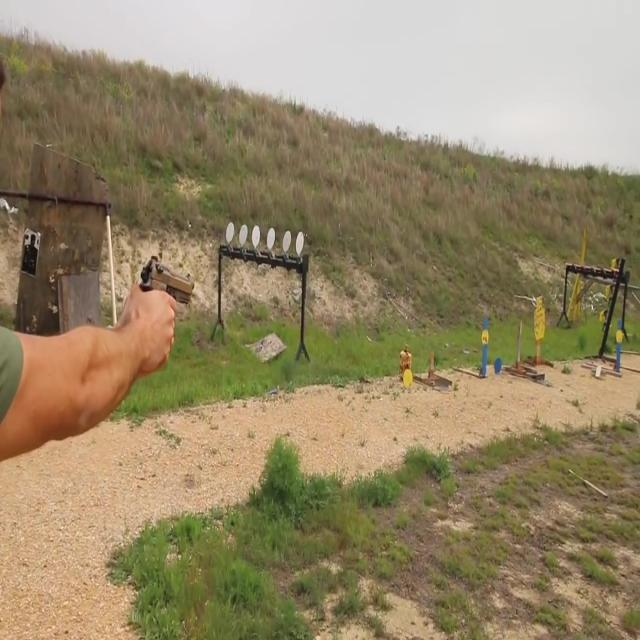Weapon: (127, 234, 214, 336)
